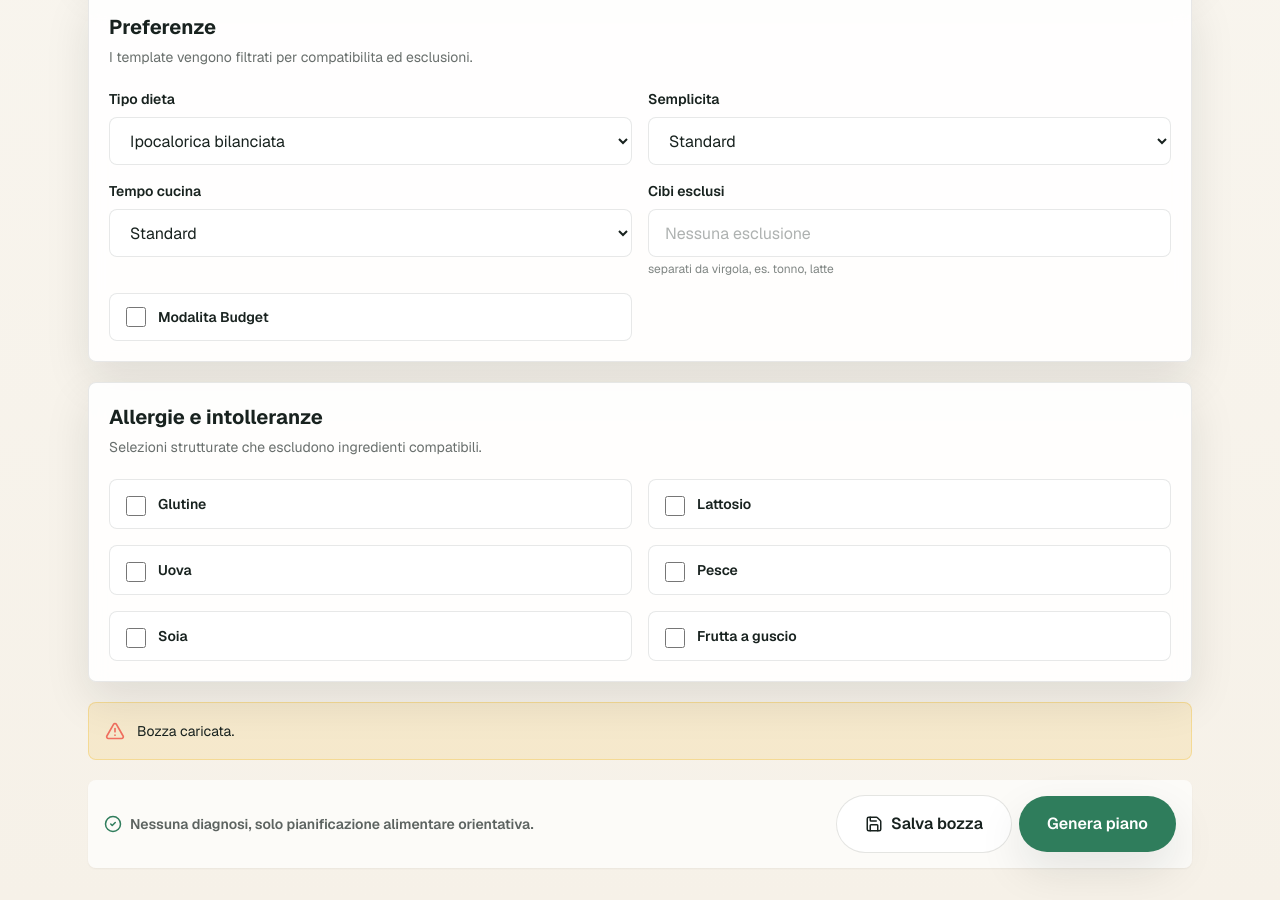
Scenario: PlannerClient › saves and reloads drafts, migrating legacy keys
(page scrolled)
Expected: the text "Bozza caricata." is shown, x1=137 y1=719 x2=234 y2=743
Click the button "Salva bozza". click: [924, 824]
box: x1=837 y1=796 x2=1011 y2=852
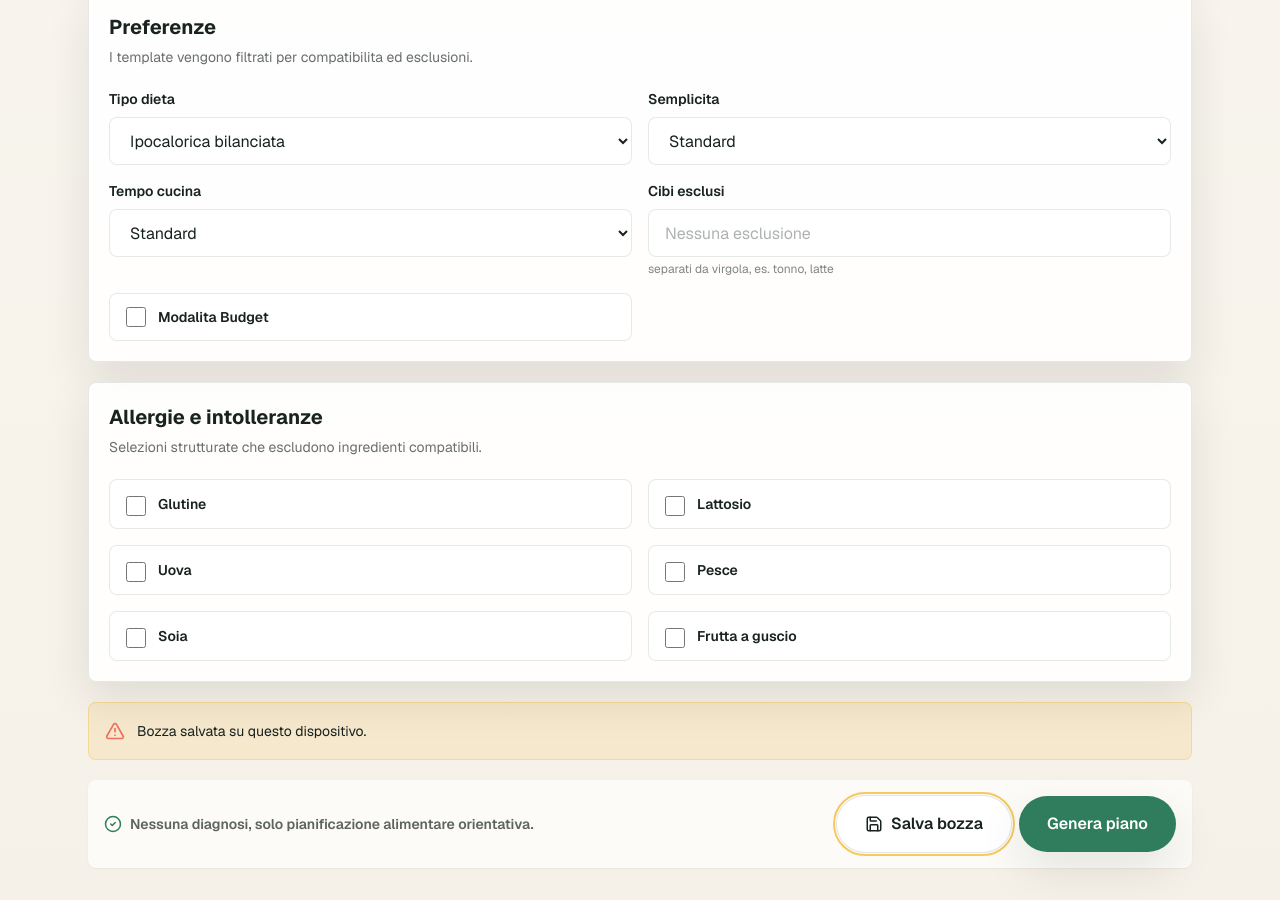
Now the text "Bozza salvata su questo dispositivo." is shown, box x1=137 y1=719 x2=366 y2=743
